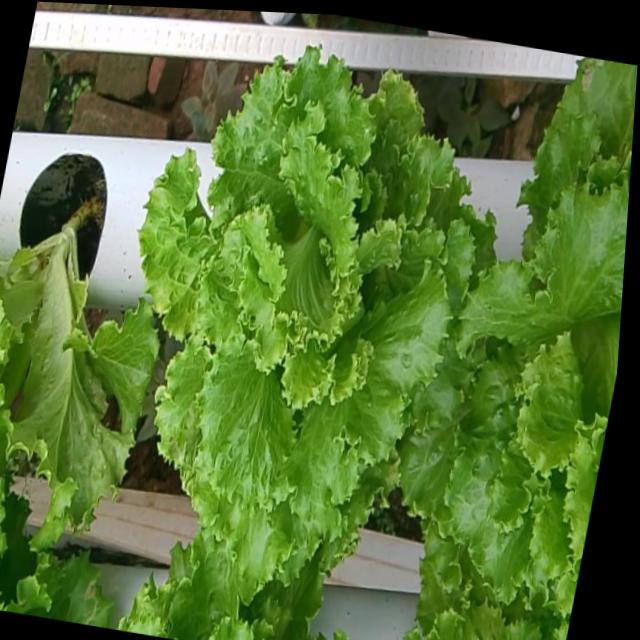Mature: (136, 31, 475, 573), (397, 158, 631, 592)
